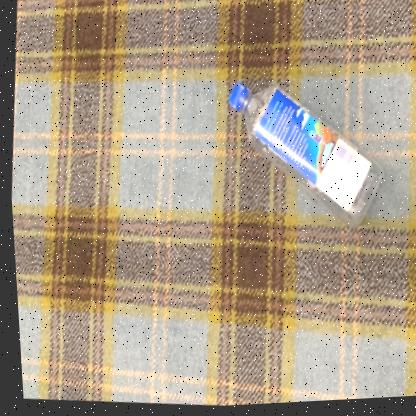Plastic: (228, 83, 382, 228)
